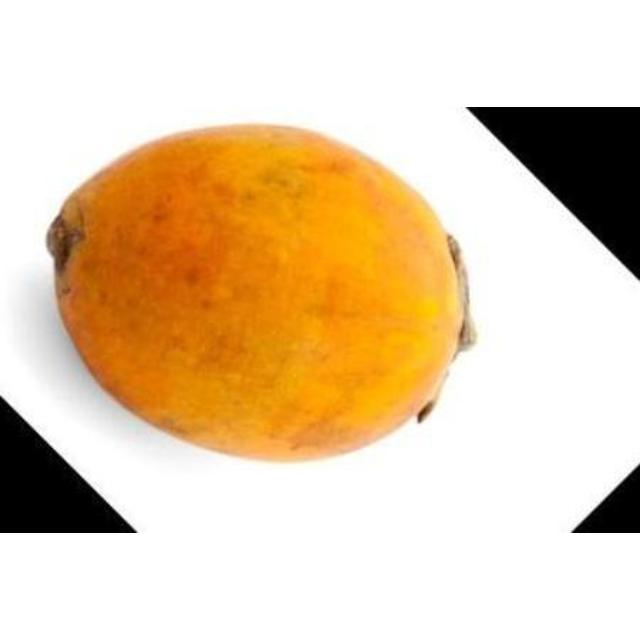good: (43, 124, 466, 465)
